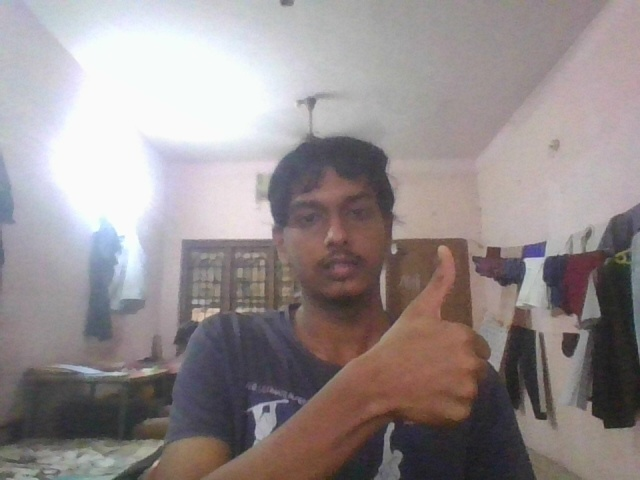thumbsup: (380, 241, 497, 433)
